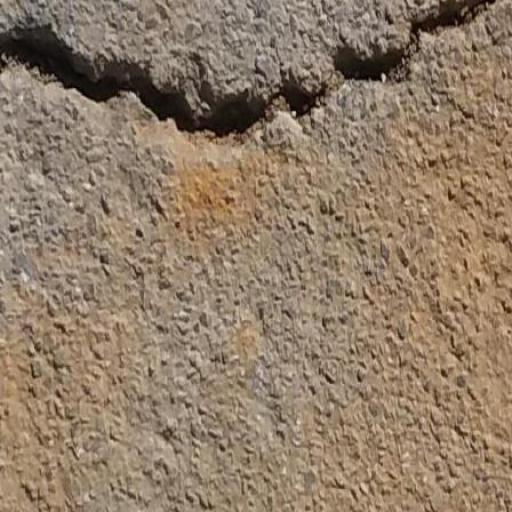spalling: (0, 0, 510, 169)
